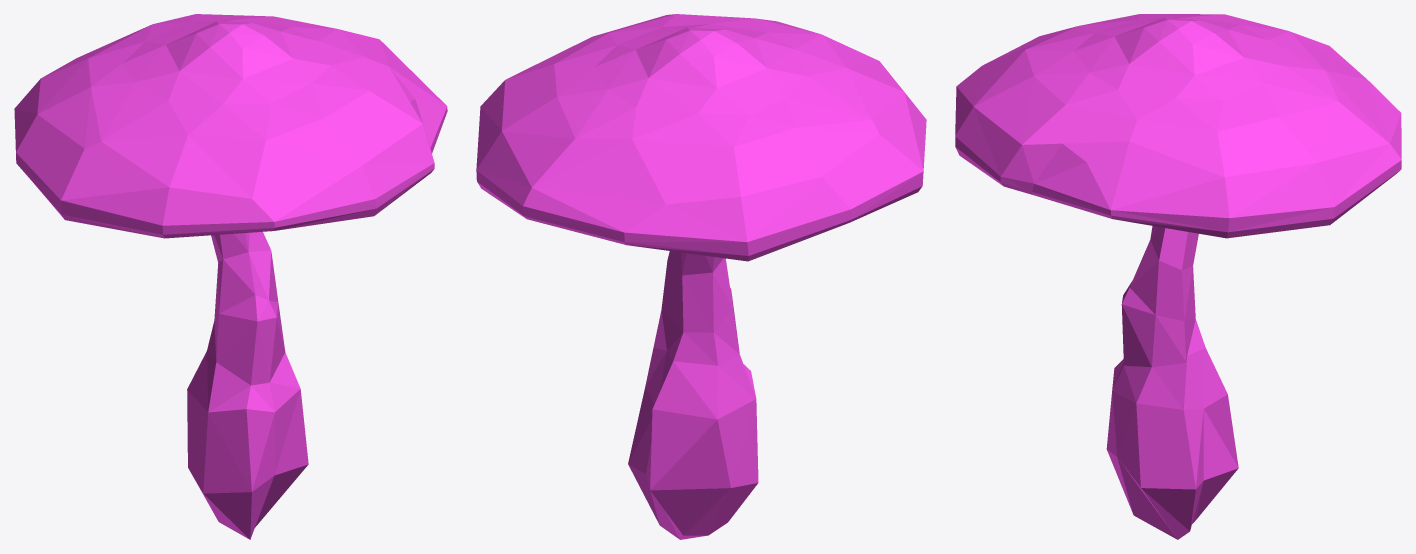
File: SM_Mushroom_Slim_Medium_E_Fantasy.fbx
3 renders of one model, left to right at view 1: azimuth 30°, elevation 25°; view 2: azimuth 150°, elevation 25°; view 3: azimuth 270°, elevation 25°, orthographic.
Visible parts, largest first — view 1: SM_Mushroom_Slim_Medium_E_Fantasy; view 2: SM_Mushroom_Slim_Medium_E_Fantasy; view 3: SM_Mushroom_Slim_Medium_E_Fantasy.
Boxes of the visible parts, x1,y1,x2,y2 form: SM_Mushroom_Slim_Medium_E_Fantasy: (14,14,447,539); SM_Mushroom_Slim_Medium_E_Fantasy: (476,14,926,539); SM_Mushroom_Slim_Medium_E_Fantasy: (955,14,1401,539).
Size of the model in its own units: 0.925 by 1.15 by 0.9228.
